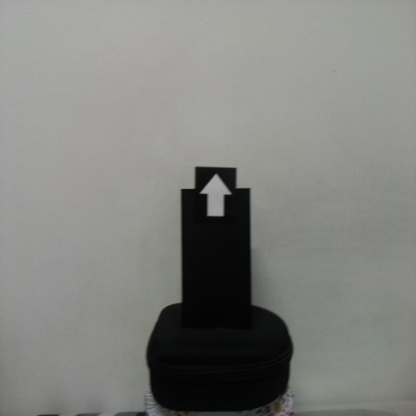id_1: (195, 168, 237, 226)
